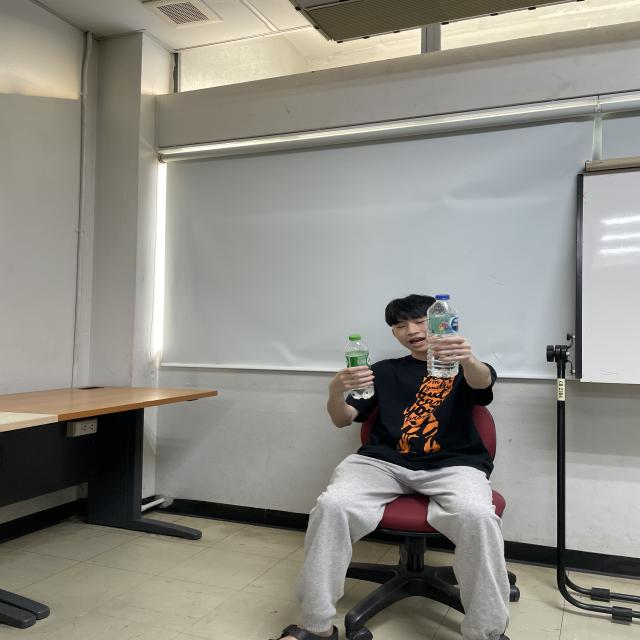bottle: (426, 295, 461, 379), (344, 334, 374, 399)
